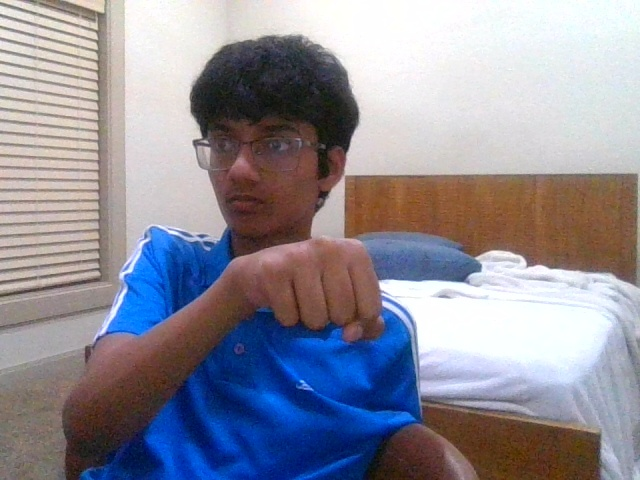yes: (233, 237, 384, 340)
